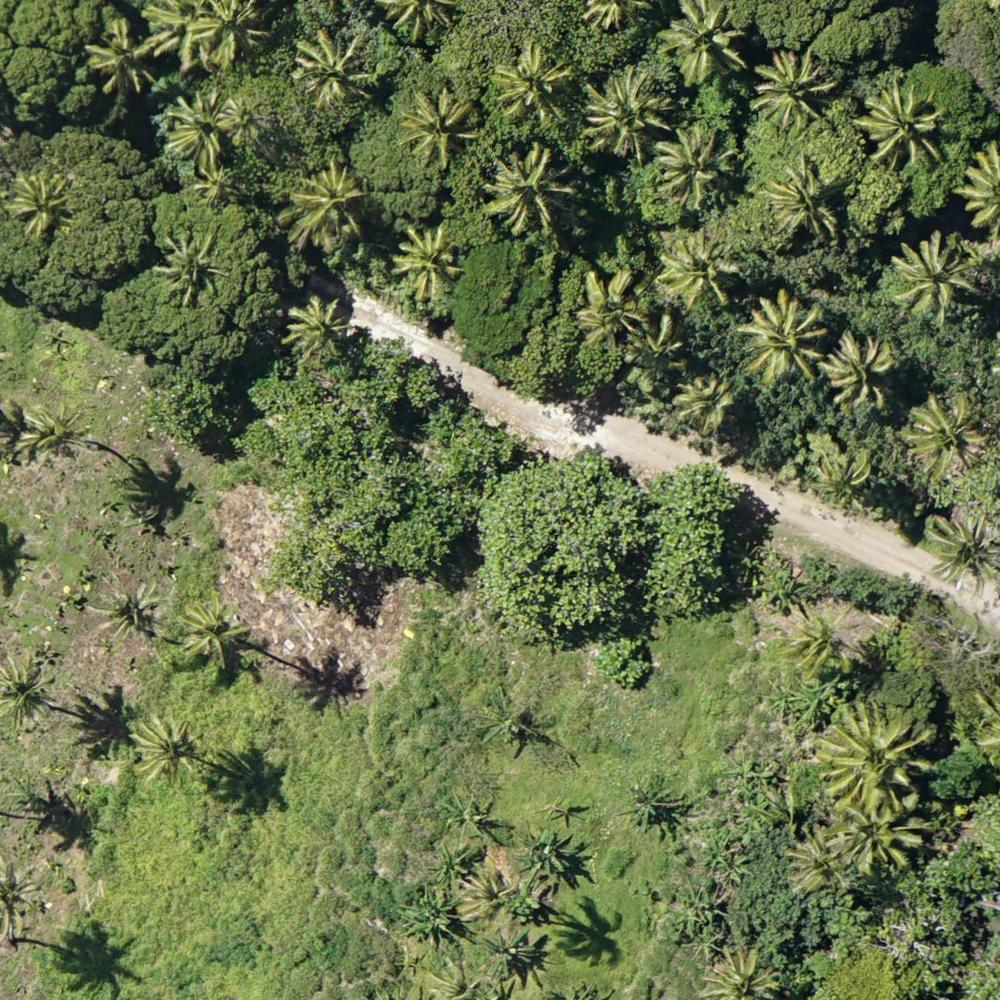Palm: (812, 701, 929, 808), (483, 140, 575, 234), (826, 798, 924, 880), (892, 234, 979, 324), (902, 392, 986, 483), (859, 86, 947, 171), (488, 39, 570, 126), (657, 1, 746, 80), (741, 294, 822, 380), (585, 66, 665, 152), (762, 158, 845, 239), (283, 164, 361, 250), (400, 89, 481, 169), (389, 222, 461, 309), (756, 52, 835, 131), (288, 30, 372, 104), (129, 714, 207, 792), (653, 128, 728, 208), (86, 578, 168, 650), (824, 330, 897, 409), (663, 236, 738, 311), (930, 511, 1000, 591), (154, 228, 229, 300), (163, 95, 232, 173), (86, 15, 161, 86), (6, 168, 71, 246), (576, 268, 646, 340), (283, 297, 353, 364), (189, 1, 263, 64), (785, 615, 852, 683), (1, 652, 59, 727), (11, 404, 82, 464), (811, 447, 875, 513), (181, 601, 242, 668), (672, 377, 732, 431), (216, 92, 265, 144)
